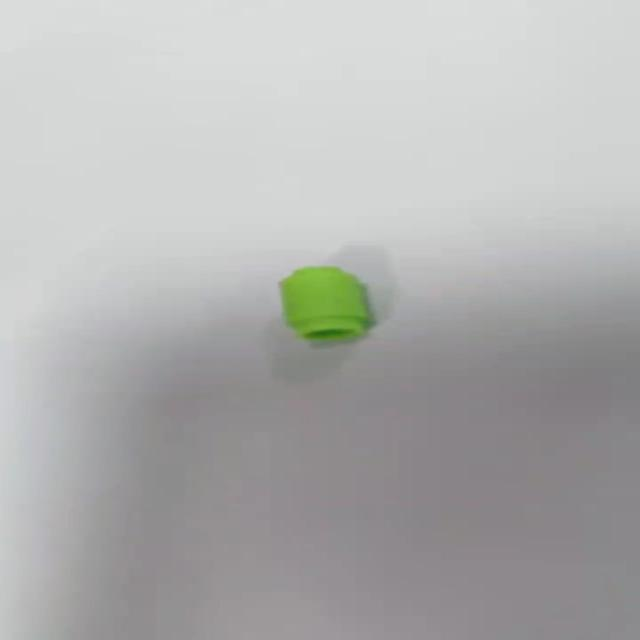S1x1x1: (273, 265, 376, 343)
